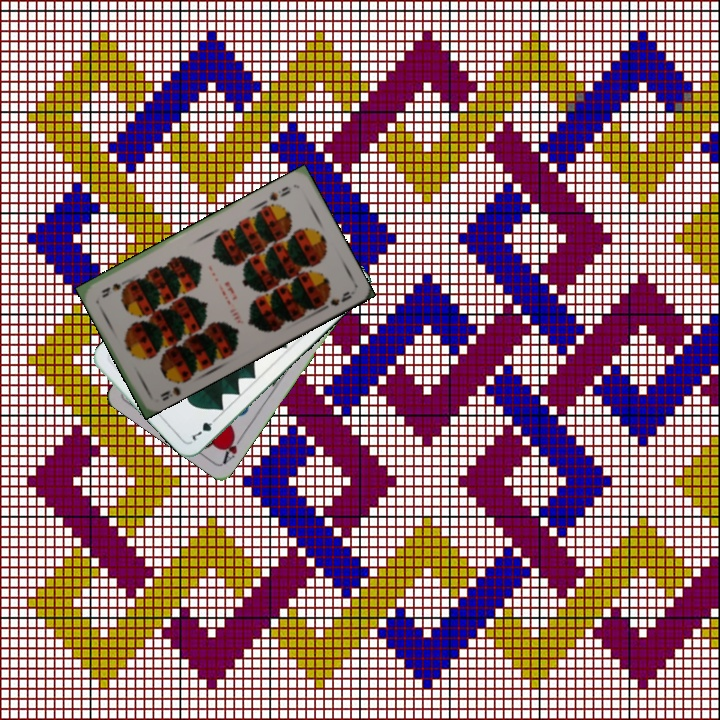G7: (188, 413, 221, 444)
HA: (219, 429, 247, 466)
S9: (156, 373, 189, 404), (266, 182, 294, 203)
